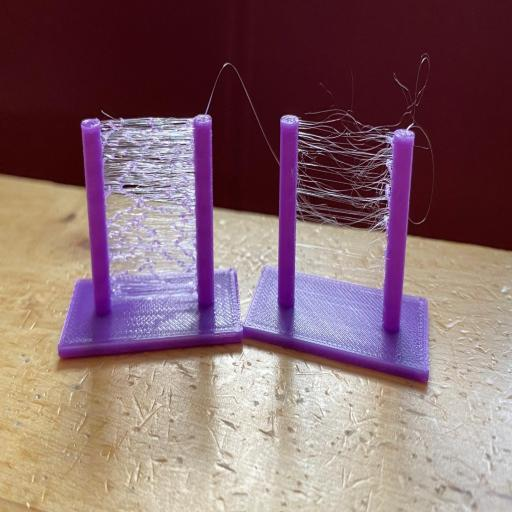stringing: (99, 117, 196, 296), (298, 123, 394, 232), (205, 52, 280, 171), (407, 51, 435, 234)
